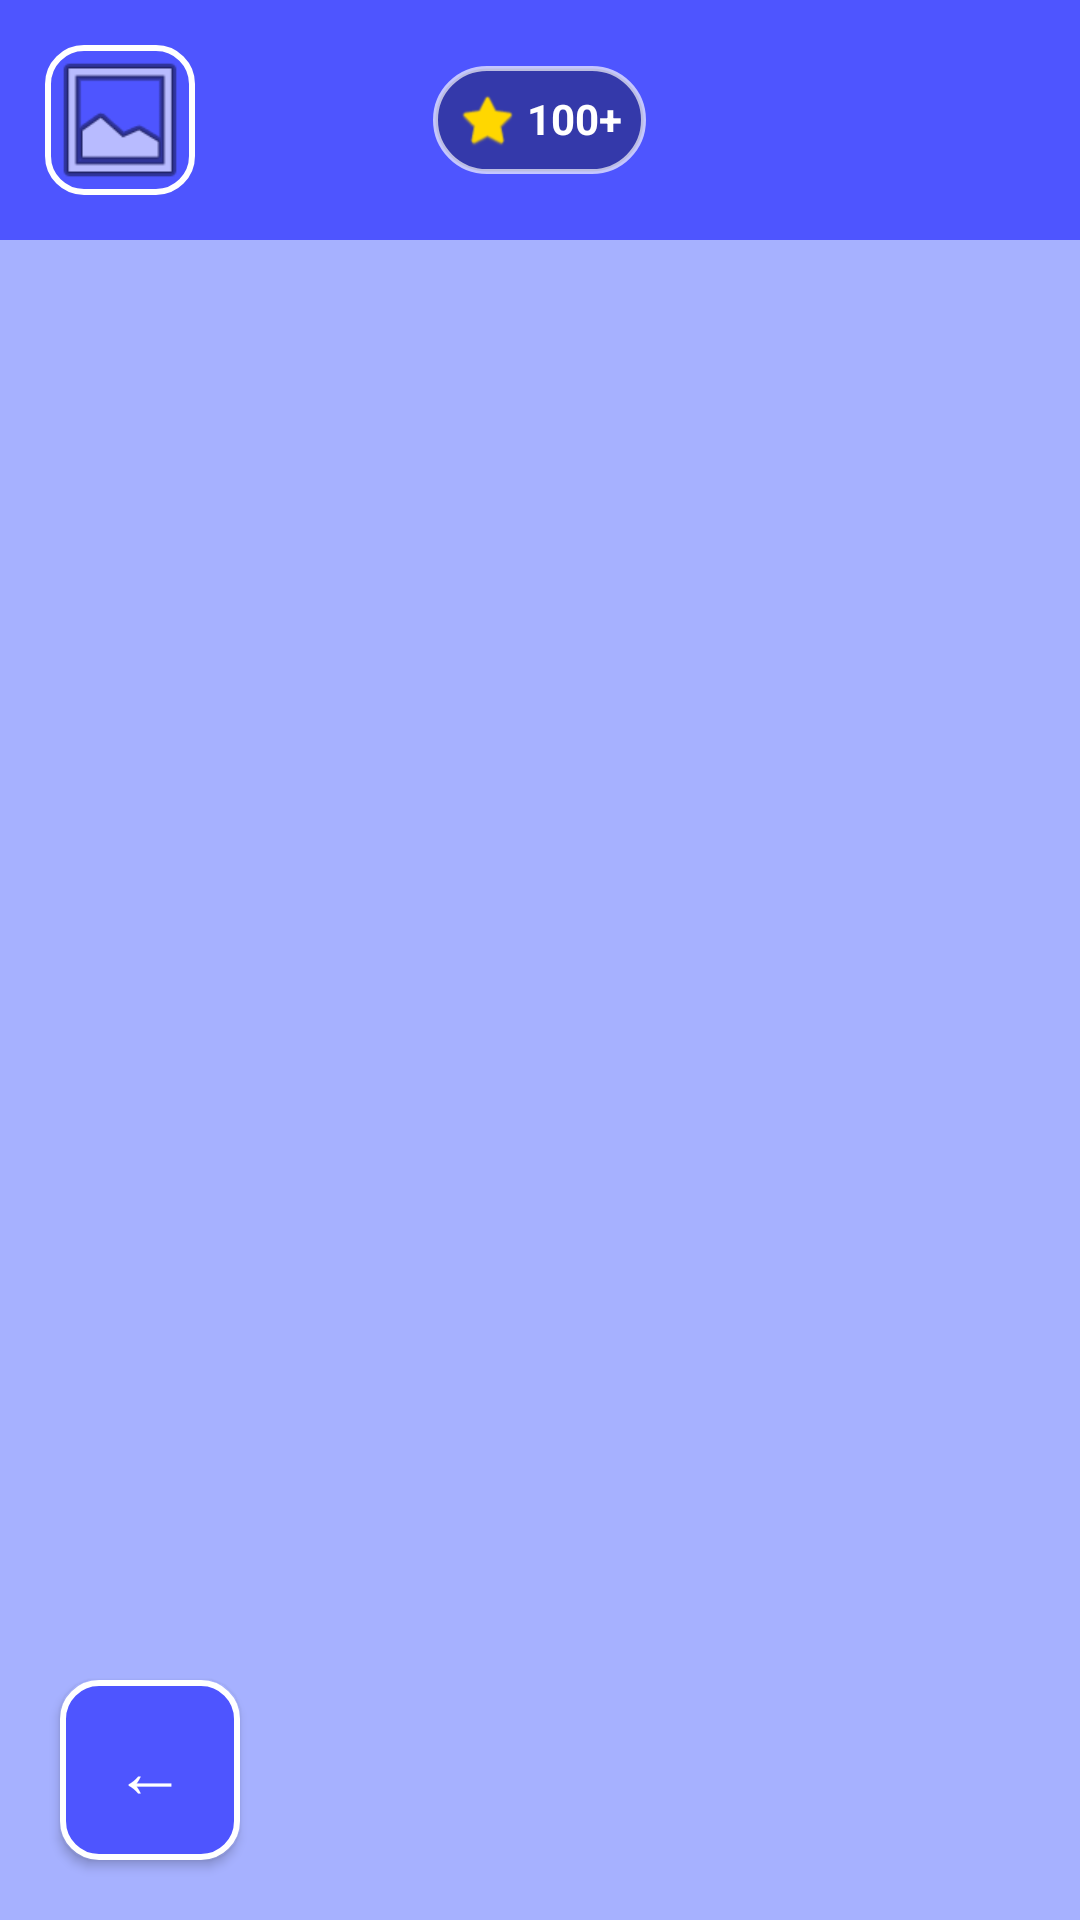

Named icons in this screenshot (1080x1920) and their bounding boxes, {"x1": x1, "y1": y1, "x2": x2, "y2": y2}:
gallery: {"x1": 45, "y1": 45, "x2": 195, "y2": 195}
star on: {"x1": 463, "y1": 96, "x2": 513, "y2": 145}
